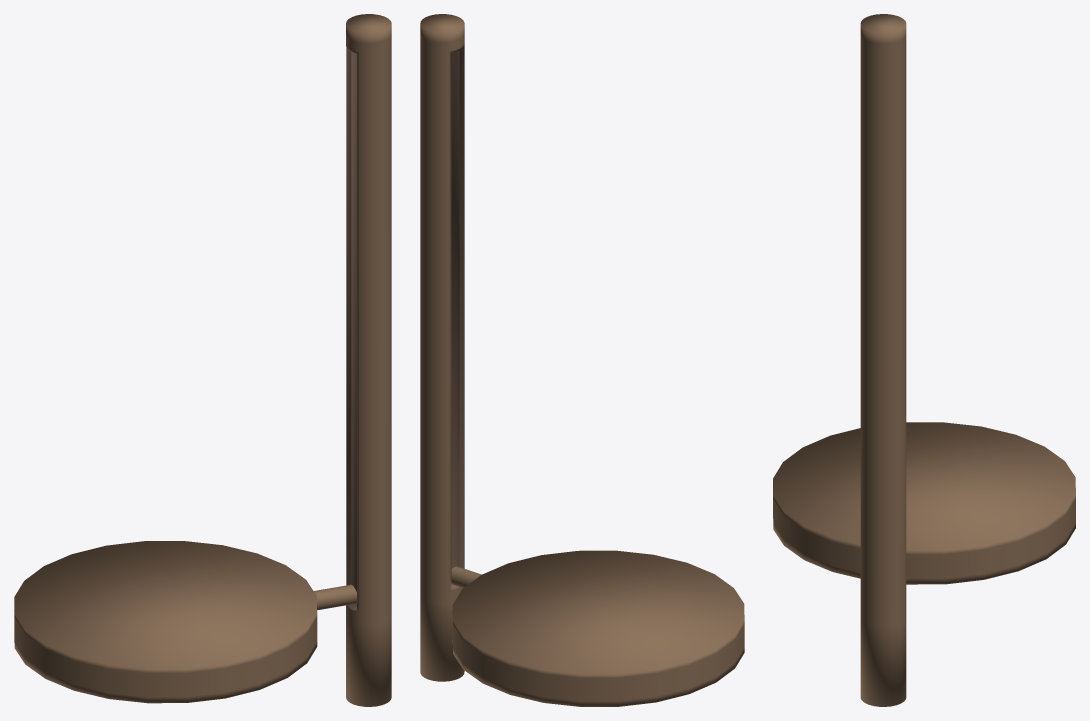
Rendered from Corn_CutRing.fbx.
3 views of the same model, side by side, from view 1: azimuth 30°, elevation 25°; view 2: azimuth 150°, elevation 25°; view 3: azimuth 270°, elevation 25° (orthographic). The views are drawn at different scales.
Visible parts, largest first — view 1: Corn_CutRing, Corn_CutRingPillar; view 2: Corn_CutRing, Corn_CutRingPillar; view 3: Corn_CutRing, Corn_CutRingPillar.
Boxes of the visible parts, box(x1,y1,x2,y2) form: Corn_CutRing: box(14, 541, 356, 703); Corn_CutRingPillar: box(346, 14, 391, 706); Corn_CutRing: box(451, 550, 744, 706); Corn_CutRingPillar: box(420, 14, 464, 681); Corn_CutRing: box(773, 422, 1075, 584); Corn_CutRingPillar: box(860, 14, 906, 706).
Size of the model in its own units: 830 by 1601 by 653.
